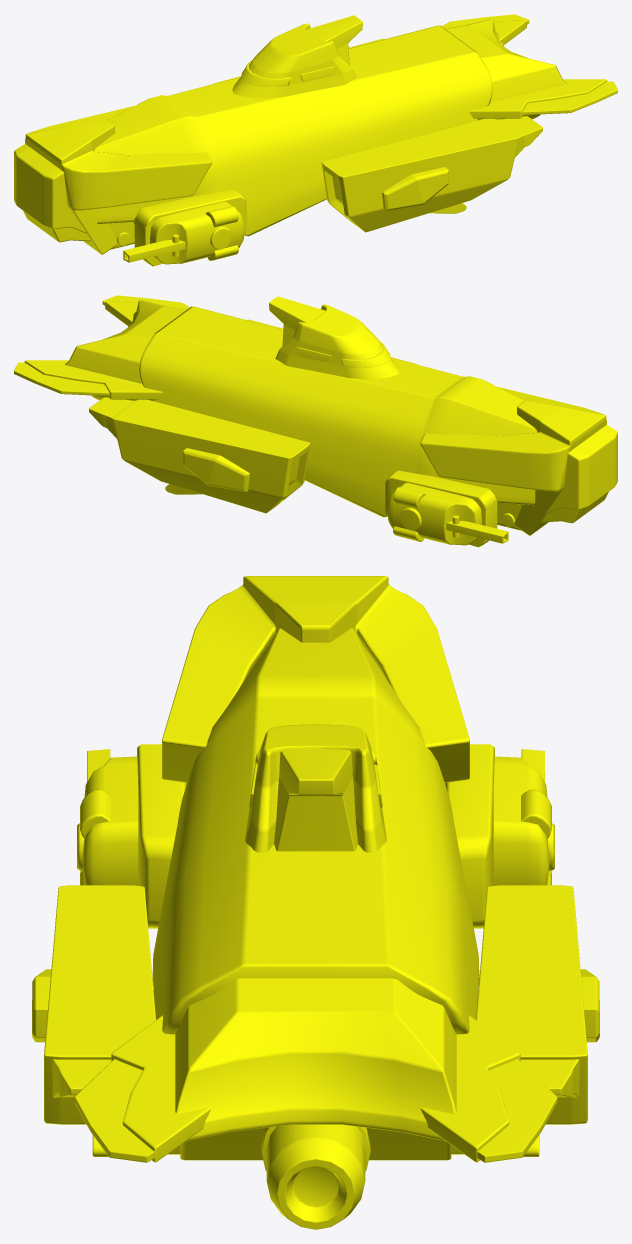
File: frigate_01.gltf
3 views of the same model, one above another, from view 1: azimuth 30°, elevation 25°; view 2: azimuth 150°, elevation 25°; view 3: azimuth 270°, elevation 25° (orthographic). The views are drawn at different scales.
Visible parts, largest first — view 1: Frigate_1; view 2: Frigate_1; view 3: Frigate_1.
Boxes of the visible parts, left/top/right/bottom form: Frigate_1: left=14, top=14, right=617, bottom=266; Frigate_1: left=14, top=295, right=617, bottom=547; Frigate_1: left=32, top=576, right=599, bottom=1229.
Size of the model in its own units: 40.09 by 11.89 by 18.18.
1 material, 1 textured.
